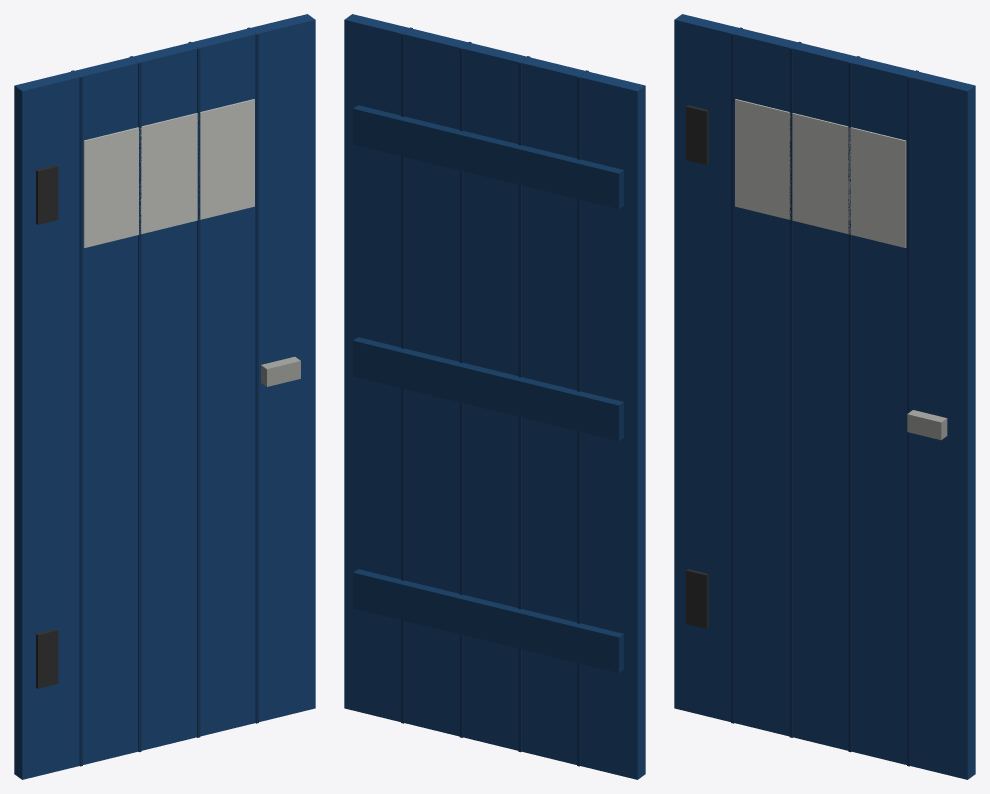
Rendered from ns_toilet_door.glb.
3 renders of one model, left to right at view 1: azimuth 30°, elevation 25°; view 2: azimuth 150°, elevation 25°; view 3: azimuth 330°, elevation 25°, orthographic.
Parts seen in each view (by area): view 1: ns_toilet_door; view 2: ns_toilet_door; view 3: ns_toilet_door.
Boxes of the visible parts, x1=… form: ns_toilet_door: x1=14, y1=14, x2=315, y2=779; ns_toilet_door: x1=344, y1=14, x2=645, y2=779; ns_toilet_door: x1=674, y1=14, x2=975, y2=779.
Bounding box in the file's own units: 0.86 × 1.93 × 0.095.
